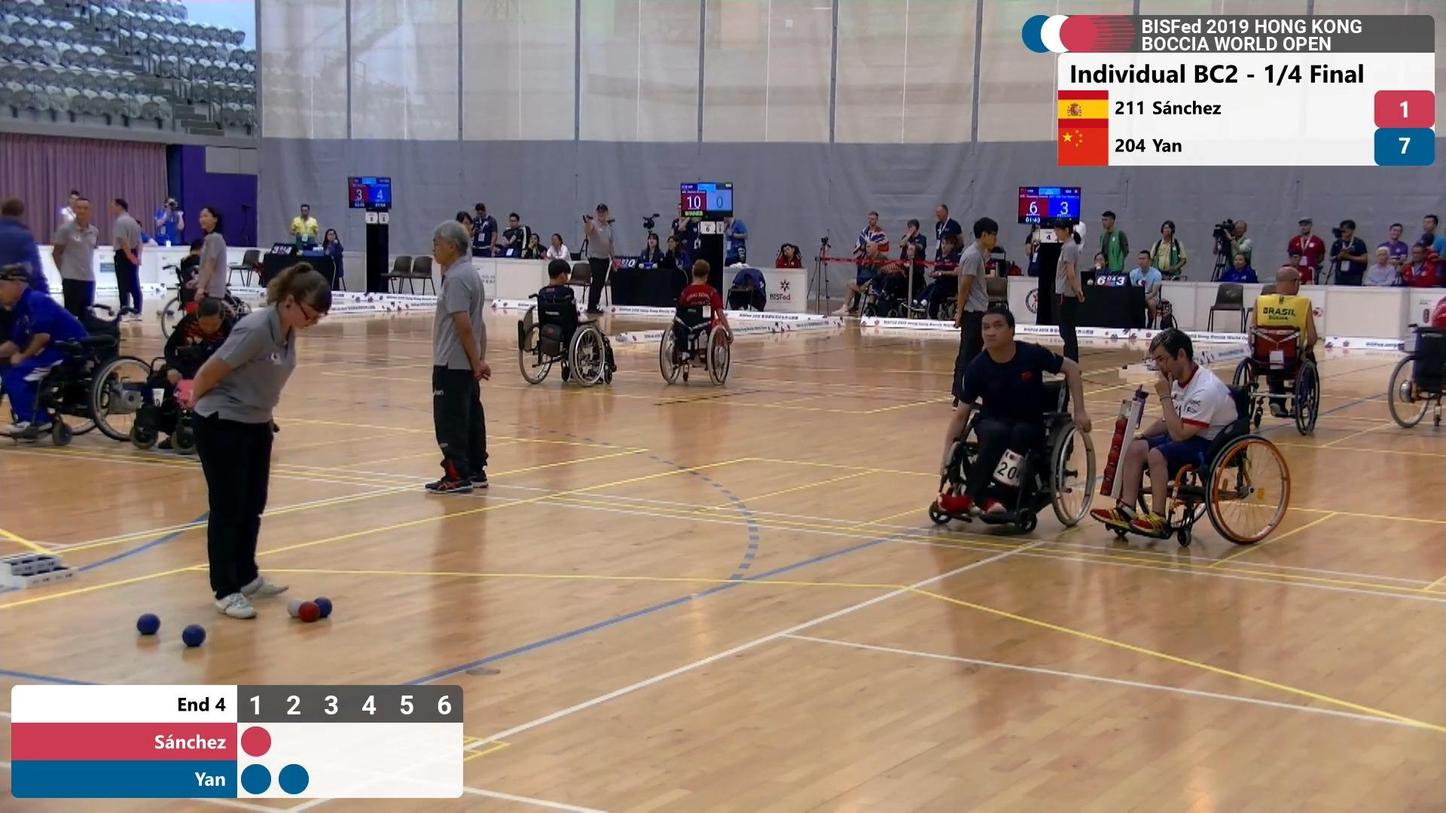blue_ball: (182, 625, 206, 647), (137, 614, 160, 635), (315, 595, 332, 617)
red_ball: (299, 601, 319, 621)
white_ball: (288, 596, 303, 616)
